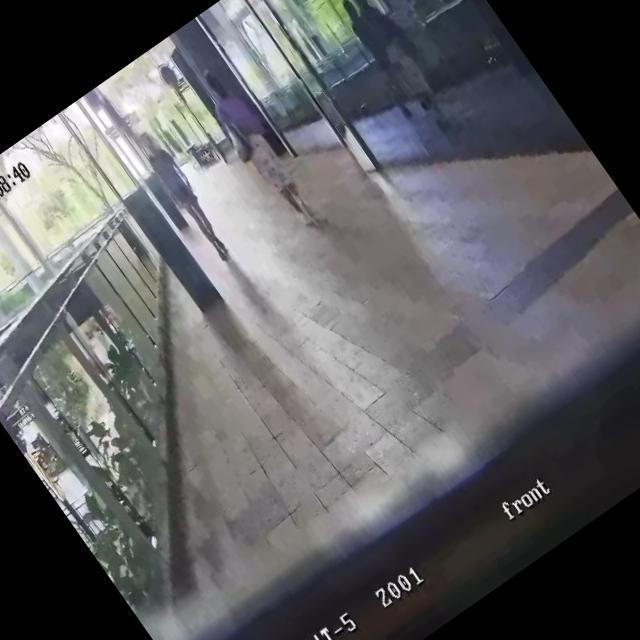person: (188, 60, 331, 240), (131, 126, 239, 266)
